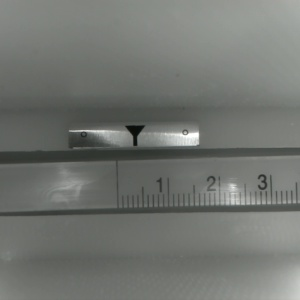1: (155, 177, 162, 193)
2: (206, 176, 216, 191)
3: (256, 174, 266, 190)
finger: (123, 125, 144, 145)
